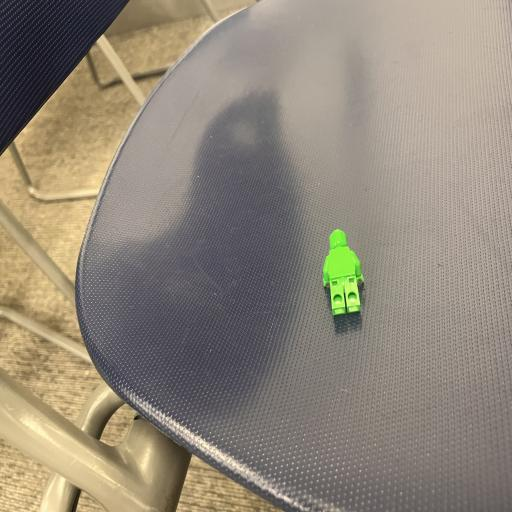Lego-Minifig: (323, 229, 364, 315)
